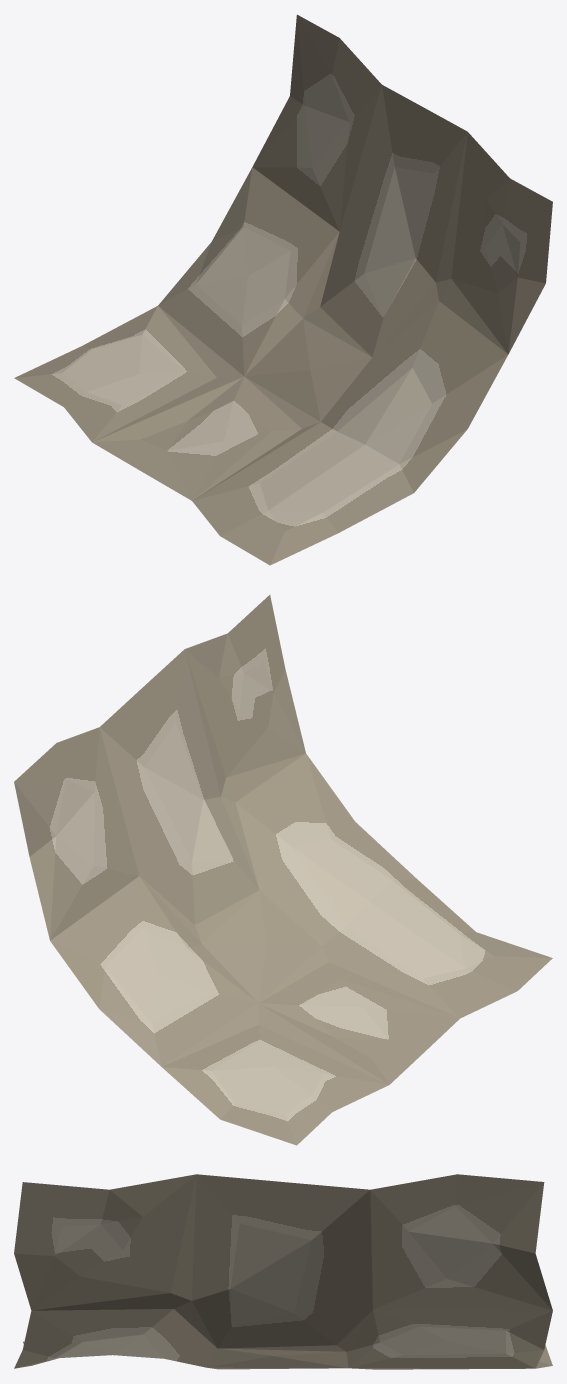
Rendered from StrongArch_00.fbx.
3 renders of one model, top to bottom at view 1: azimuth 30°, elevation 25°; view 2: azimuth 150°, elevation 25°; view 3: azimuth 270°, elevation 25°, orthographic.
Visible parts, largest first — view 1: StrongArch_00; view 2: StrongArch_00; view 3: StrongArch_00.
Part boxes in pixels (x1,y1,x2,y2): StrongArch_00: (14,14,552,565); StrongArch_00: (14,595,552,1145); StrongArch_00: (14,1174,552,1369).
Size of the model in its own units: 65.5 by 65.2 by 103.
1 material, 1 textured.
